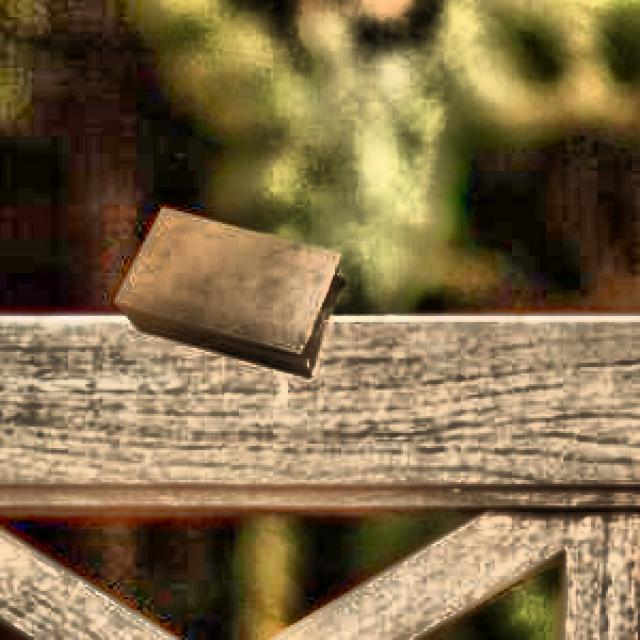Paper-bag: (104, 198, 350, 390)
